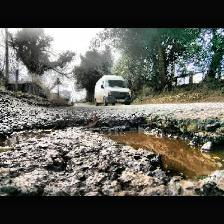pothole: (0, 116, 224, 187)
